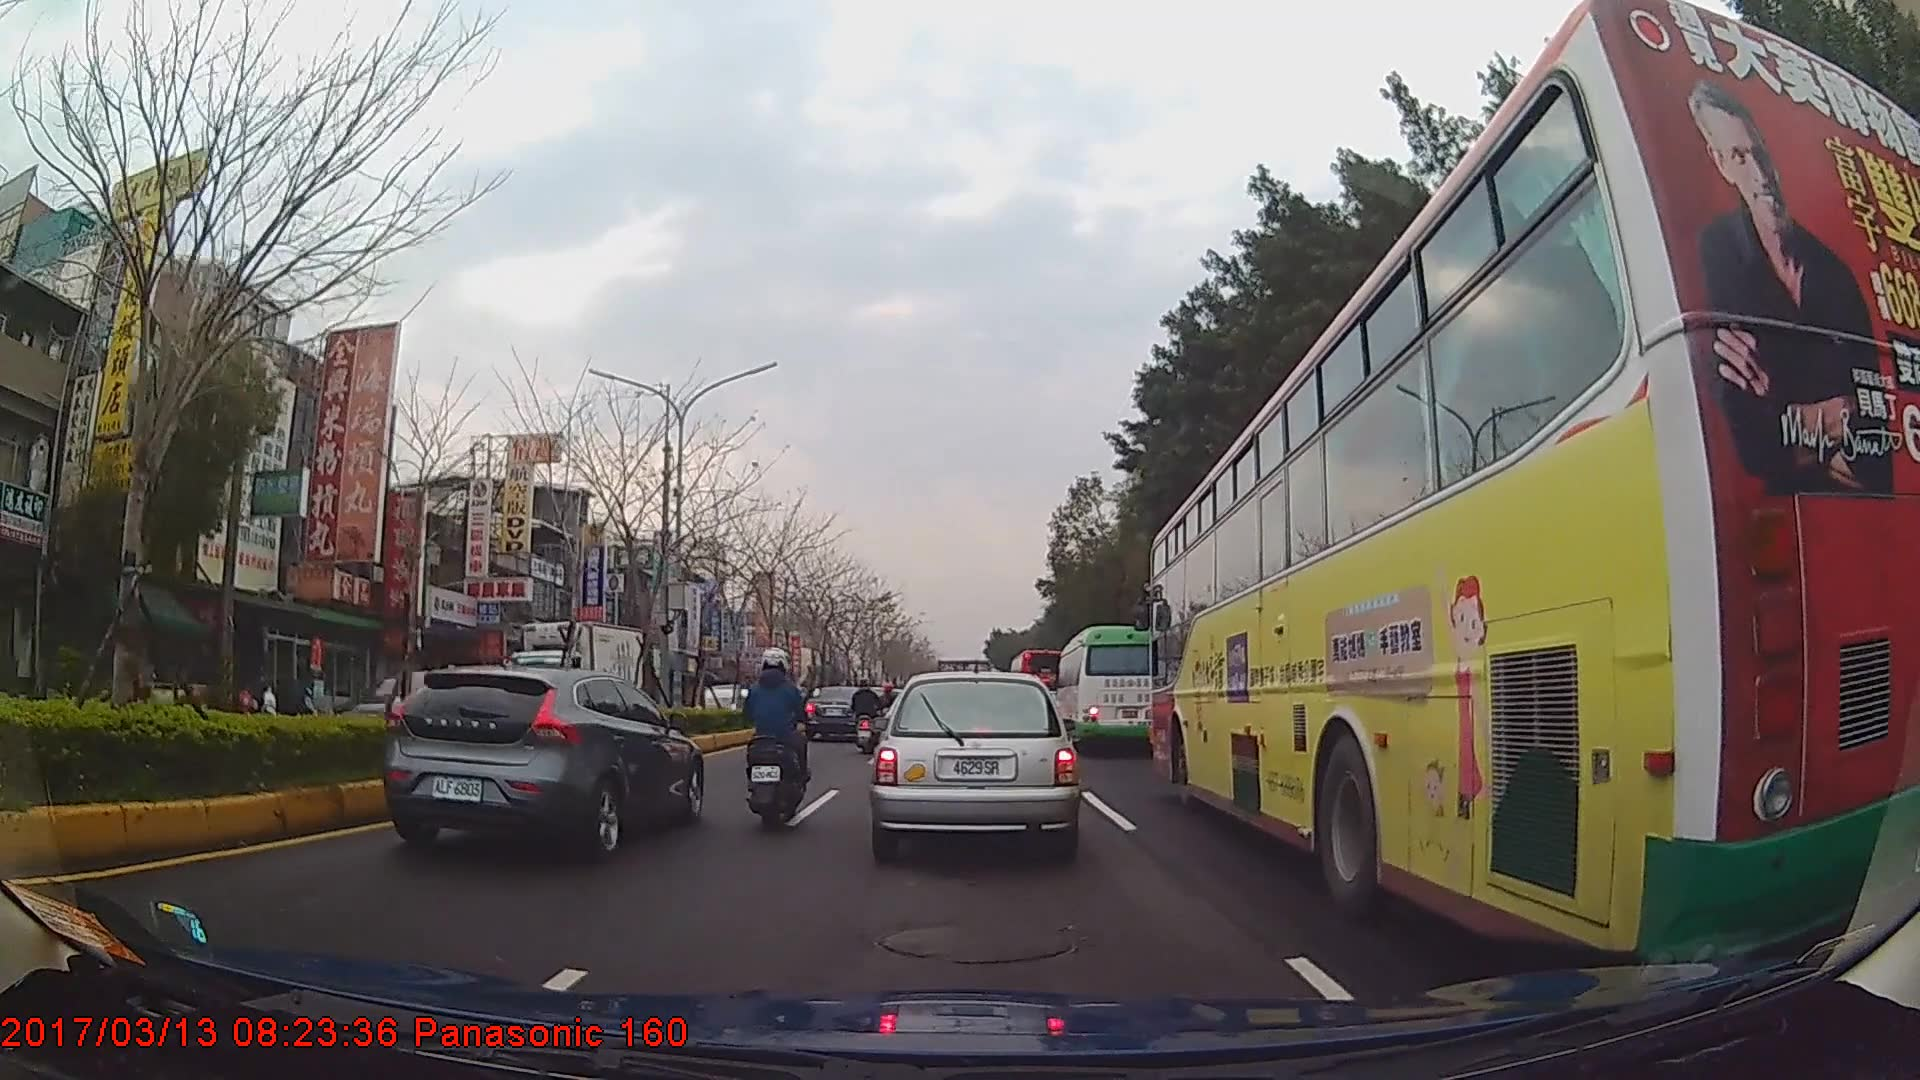rider: (741, 646, 815, 818), (851, 678, 886, 749), (879, 682, 901, 737)
vehicle: (1149, 2, 1920, 976), (381, 663, 705, 858), (871, 669, 1077, 858), (474, 612, 658, 757), (1055, 624, 1173, 753), (1007, 645, 1071, 718), (805, 686, 875, 740)
